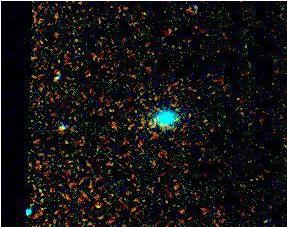star: (137, 113, 167, 143)
